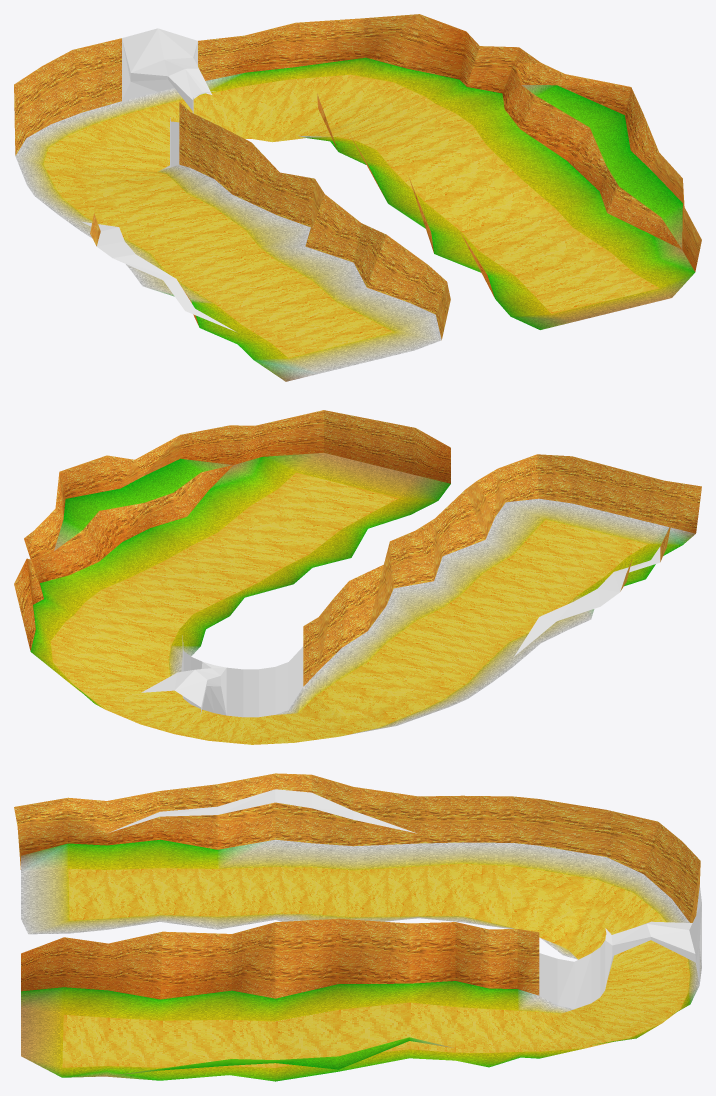
File: HoreshoeGulch.glb
3 views of the same model, one above another, from view 1: azimuth 30°, elevation 25°; view 2: azimuth 150°, elevation 25°; view 3: azimuth 270°, elevation 25° (orthographic). The views are drawn at different scales.
Visible parts, largest first — view 1: HoreshoeGulch_0, HoreshoeGulch_1, HoreshoeGulch_2, HoreshoeGulch_3; view 2: HoreshoeGulch_0, HoreshoeGulch_2, HoreshoeGulch_1, HoreshoeGulch_3; view 3: HoreshoeGulch_2, HoreshoeGulch_0, HoreshoeGulch_1, HoreshoeGulch_3.
Boxes of the visible parts, x1=… form: HoreshoeGulch_0: x1=43, y1=74, x2=659, y2=357; HoreshoeGulch_1: x1=15, y1=57, x2=695, y2=381; HoreshoeGulch_2: x1=14, y1=14, x2=701, y2=339; HoreshoeGulch_3: x1=81, y1=28, x2=235, y2=331; HoreshoeGulch_0: x1=50, y1=472, x2=647, y2=744; HoreshoeGulch_2: x1=14, y1=410, x2=701, y2=686; HoreshoeGulch_1: x1=30, y1=453, x2=695, y2=735; HoreshoeGulch_3: x1=141, y1=547, x2=660, y2=717; HoreshoeGulch_2: x1=14, y1=773, x2=700, y2=999; HoreshoeGulch_0: x1=62, y1=863, x2=689, y2=1067; HoreshoeGulch_1: x1=21, y1=839, x2=701, y2=1081; HoreshoeGulch_3: x1=109, y1=789, x2=701, y2=1009.
Bounding box in the file's own units: 522 × 73.25 × 554.
4 materials, 3 textured.
